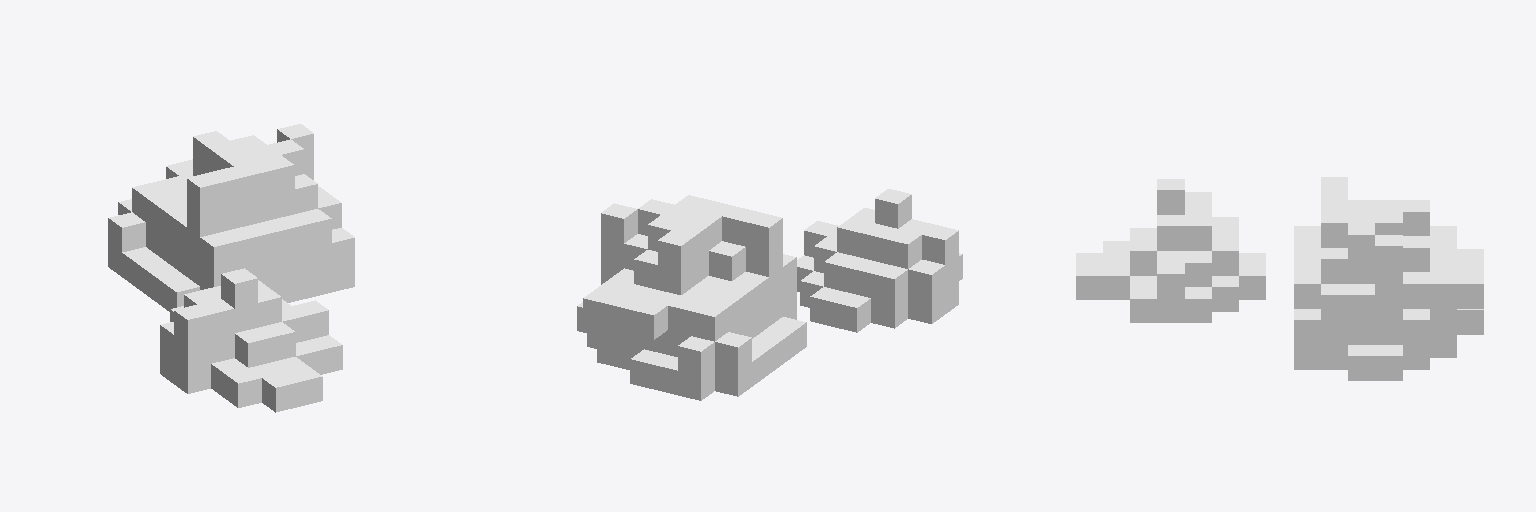
The model's file is Bush.obj.
The picture shows the model from 3 angles: view 1: azimuth 30°, elevation 25°; view 2: azimuth 150°, elevation 25°; view 3: azimuth 270°, elevation 25°; orthographic projection.
Visible parts, largest first — view 1: object 1; view 2: object 1; view 3: object 1.
Boxes of the visible parts, box(x1,y1,x2,y2) form: object 1: box(108, 124, 354, 412); object 1: box(577, 189, 962, 400); object 1: box(1076, 177, 1483, 380).
Size of the model in its own units: 1.1 by 0.5 by 1.5.